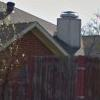Chimney: (53, 5, 89, 50)
